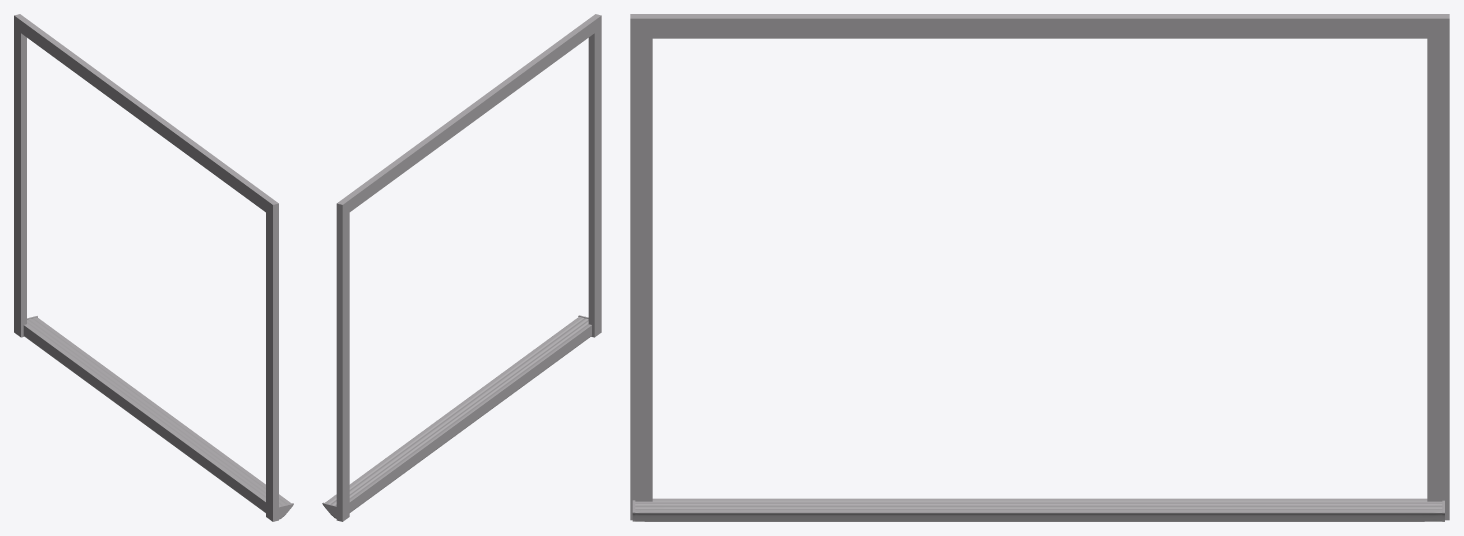
3 views of the same model, side by side, from view 1: azimuth 30°, elevation 25°; view 2: azimuth 150°, elevation 25°; view 3: azimuth 270°, elevation 25° (orthographic). The views are drawn at different scales.
Parts seen in each view (by area): view 1: node_id9, node_id4, node_id6, node_id5; view 2: node_id9, node_id4, node_id6, node_id5; view 3: node_id4, node_id9, node_id6, node_id5.
Part boxes in pixels (x1,y1,x2,y2): node_id9: [23, 317, 291, 512]; node_id4: [14, 14, 278, 217]; node_id6: [266, 198, 278, 521]; node_id5: [14, 17, 26, 337]; node_id9: [325, 316, 591, 512]; node_id4: [336, 18, 601, 217]; node_id6: [588, 14, 601, 337]; node_id5: [336, 199, 349, 521]; node_id4: [630, 14, 1449, 38]; node_id9: [635, 498, 1442, 521]; node_id6: [630, 14, 652, 520]; node_id5: [1427, 18, 1449, 520].
Bounding box in the file's own units: 0.0368 × 0.512 × 0.7572.
6 materials, 6 textured.
